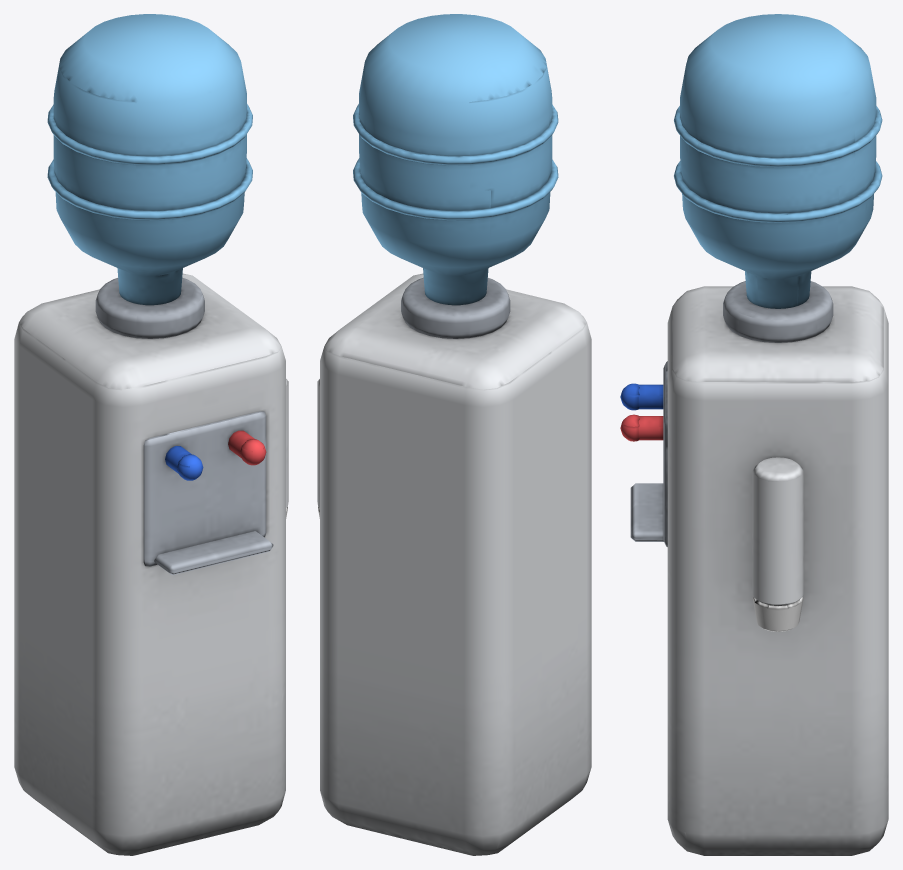
File: water_cooler.glb
3 renders of one model, left to right at view 1: azimuth 30°, elevation 25°; view 2: azimuth 150°, elevation 25°; view 3: azimuth 270°, elevation 25°, orthographic.
Visible parts, largest first — view 1: water_cooler; view 2: water_cooler; view 3: water_cooler.
Part boxes in pixels (bbox=[...]): water_cooler: bbox=[14, 14, 288, 855]; water_cooler: bbox=[317, 14, 591, 855]; water_cooler: bbox=[620, 14, 888, 855].
Bounding box in the file's own units: 0.437 × 1.41 × 0.437.
6 materials, 6 textured.
